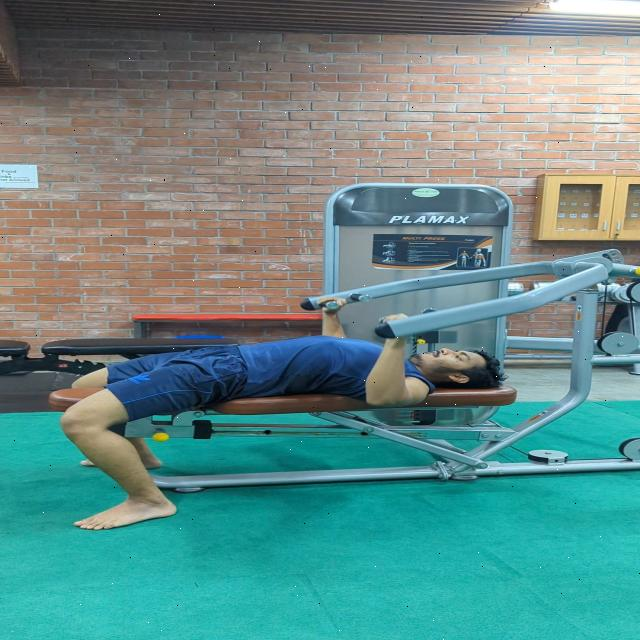Normal_BrenchPress: (42, 289, 520, 560)
